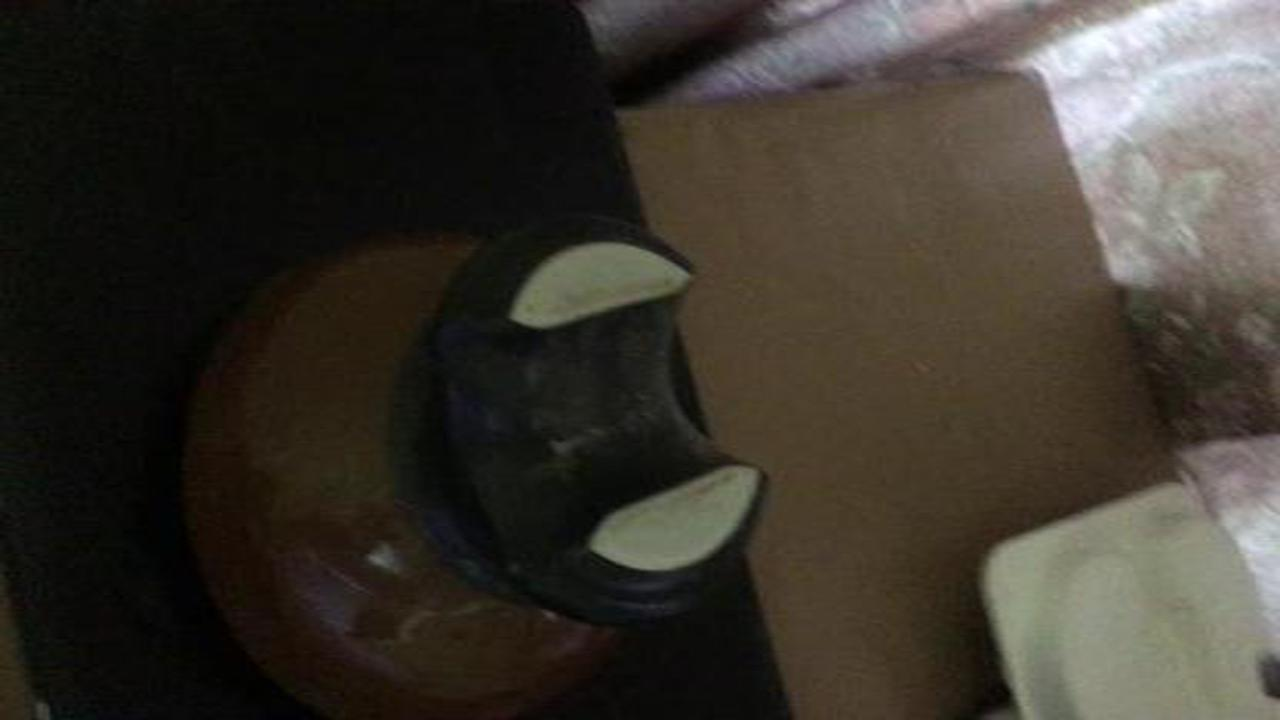insulator_pin: (147, 203, 794, 717)
